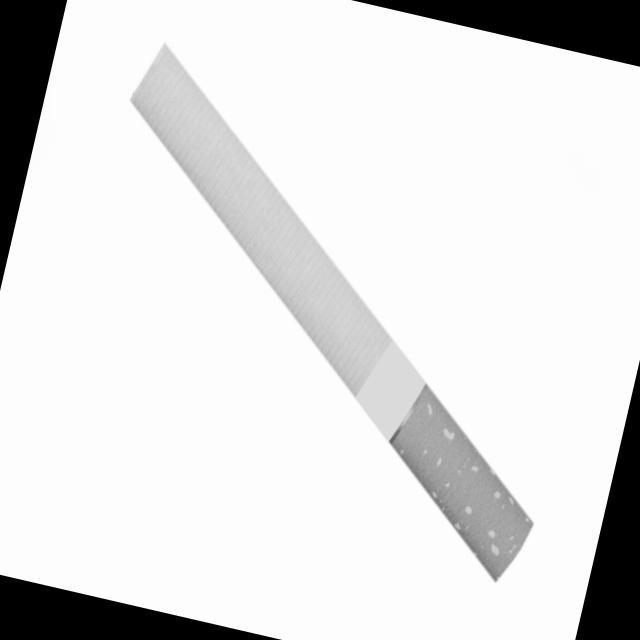cigarette: (34, 28, 616, 593)
